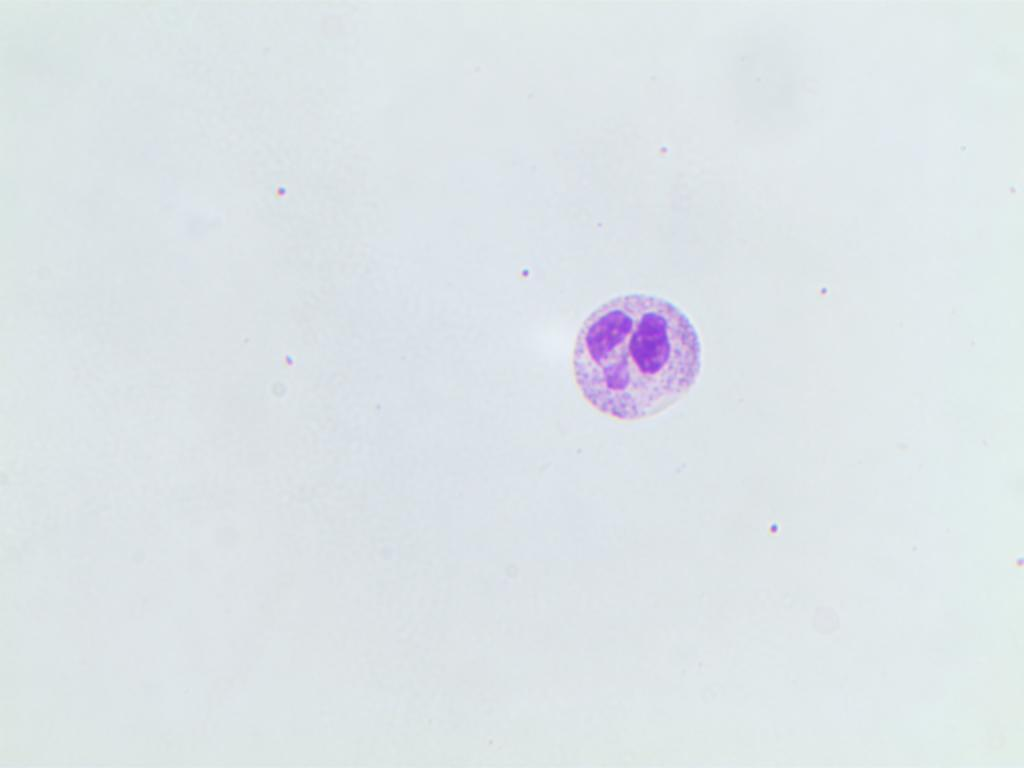neutrophil: (534, 282, 720, 446)
